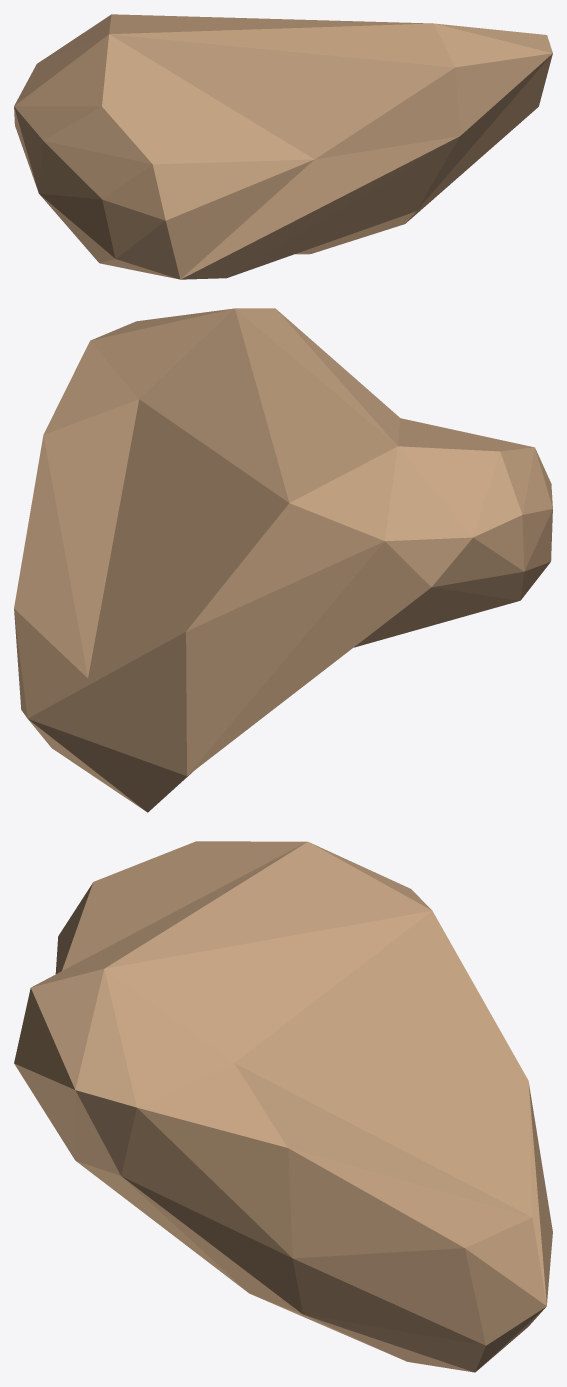
Rendered from Stone_4.fbx.
The picture shows the model from 3 angles, top to bottom: view 1: azimuth 30°, elevation 25°; view 2: azimuth 150°, elevation 25°; view 3: azimuth 270°, elevation 25°; orthographic projection. The views are drawn at different scales.
Parts seen in each view (by area): view 1: Stone_4; view 2: Stone_4; view 3: Stone_4.
Boxes of the visible parts, left/top/right/bottom form: Stone_4: left=14, top=14, right=552, bottom=279; Stone_4: left=14, top=308, right=552, bottom=812; Stone_4: left=14, top=841, right=552, bottom=1372.
Bounding box in the file's own units: 462 × 321 × 381.
